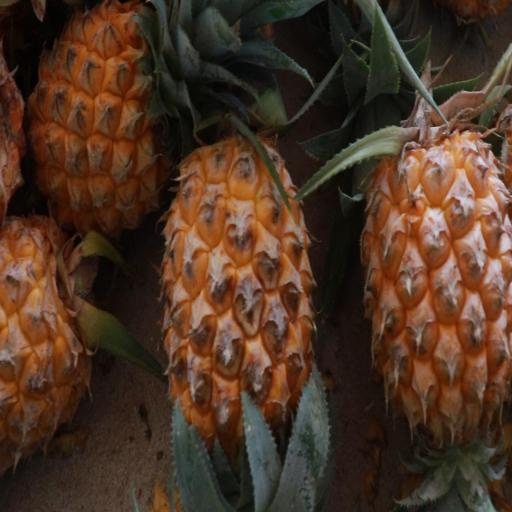Pineapple - v8 v1: (154, 121, 323, 511), (355, 99, 512, 467), (21, 0, 202, 248), (0, 193, 102, 484)
